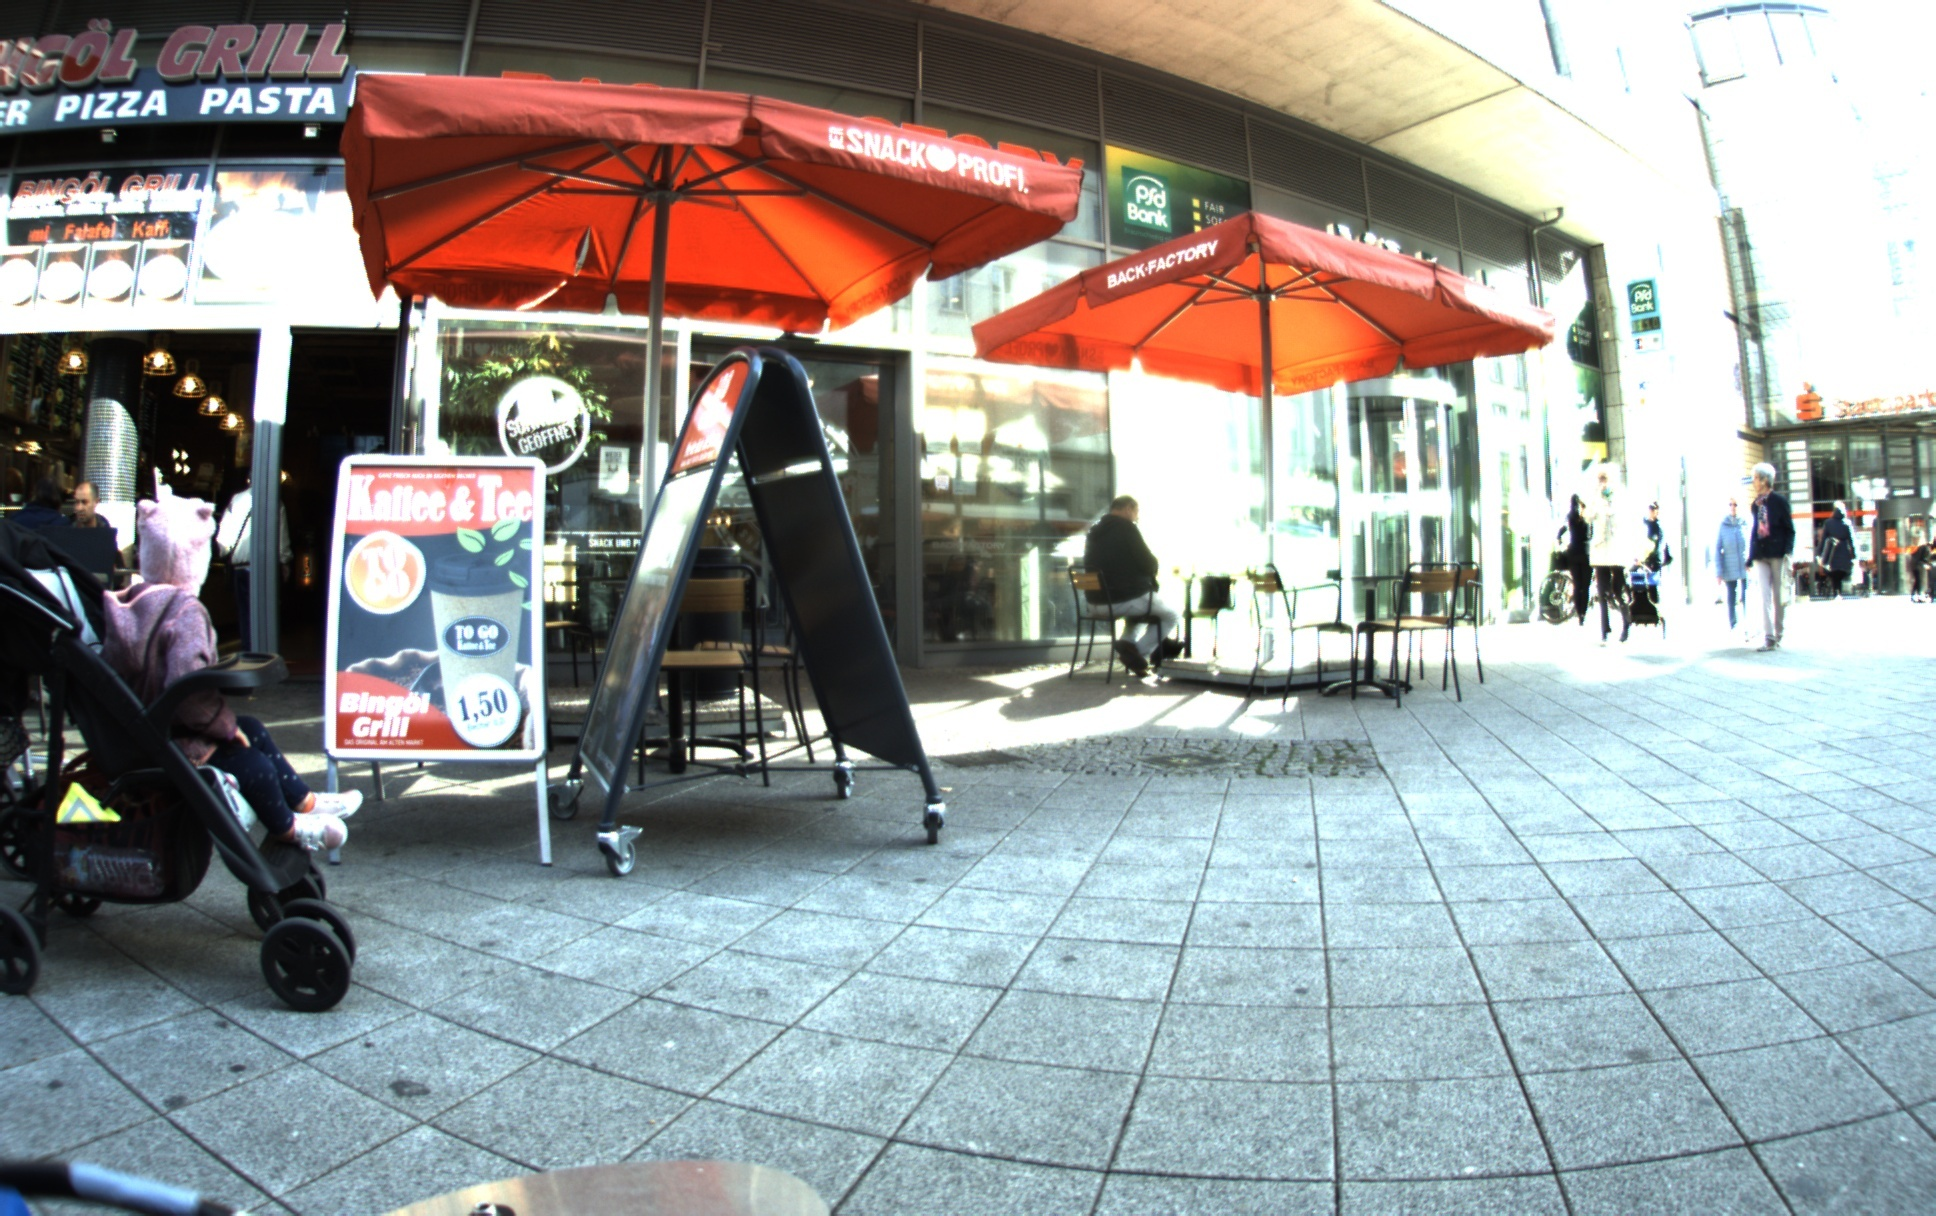adult without baby buggy or mobility support: (1083, 494, 1176, 686), (1585, 461, 1662, 635), (55, 478, 127, 579), (1716, 493, 1750, 629), (1817, 500, 1855, 601), (1664, 636, 1668, 643)
cyclist with bicycle: (1539, 494, 1591, 625)
person with baby buggy: (0, 494, 362, 1011)
